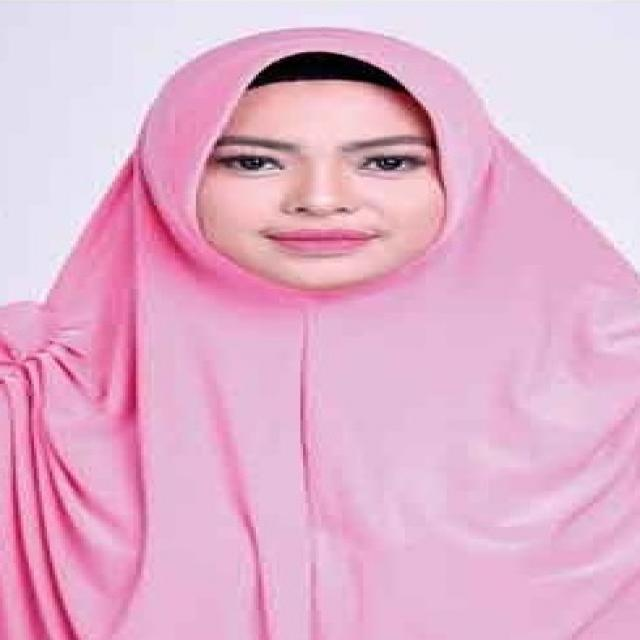head: (156, 23, 486, 299)
